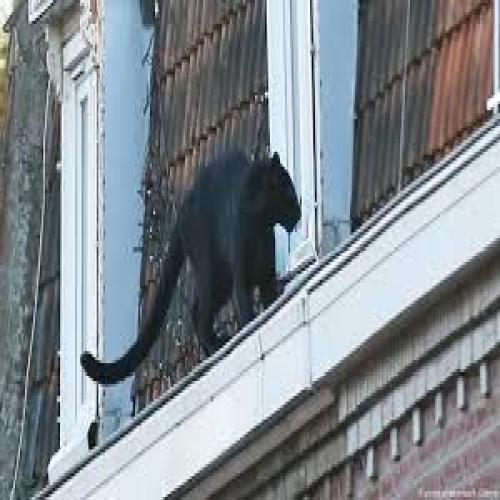panther-endangered: (80, 150, 300, 338)
